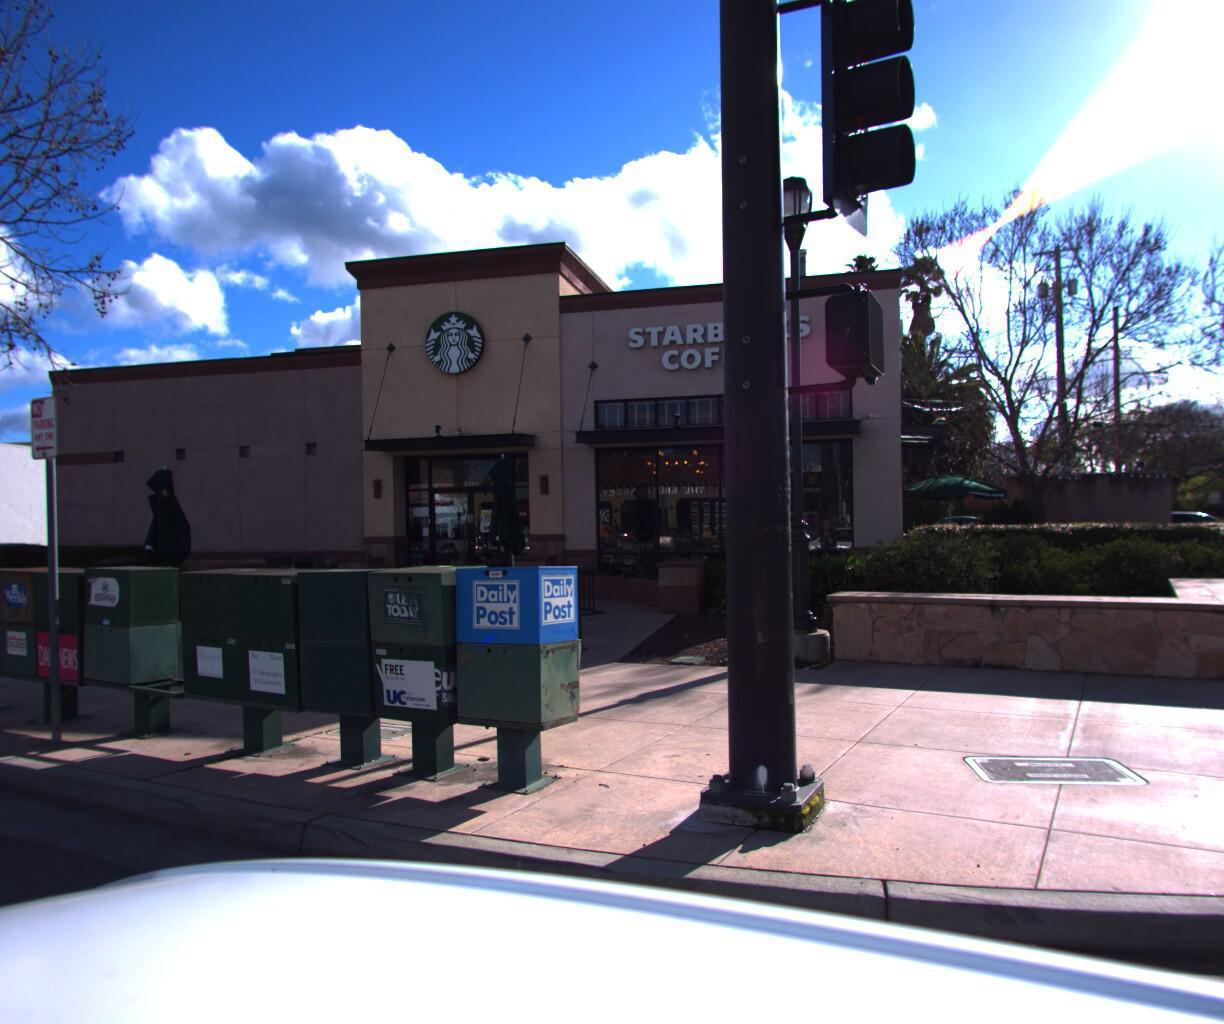car: (0, 538, 108, 623), (1118, 507, 1224, 564)
